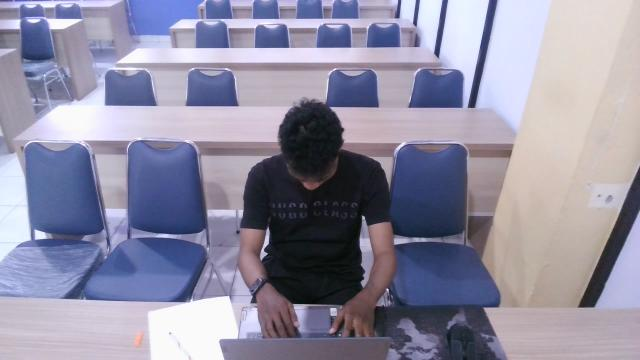Head_Down_Extreme: (233, 87, 397, 305)
